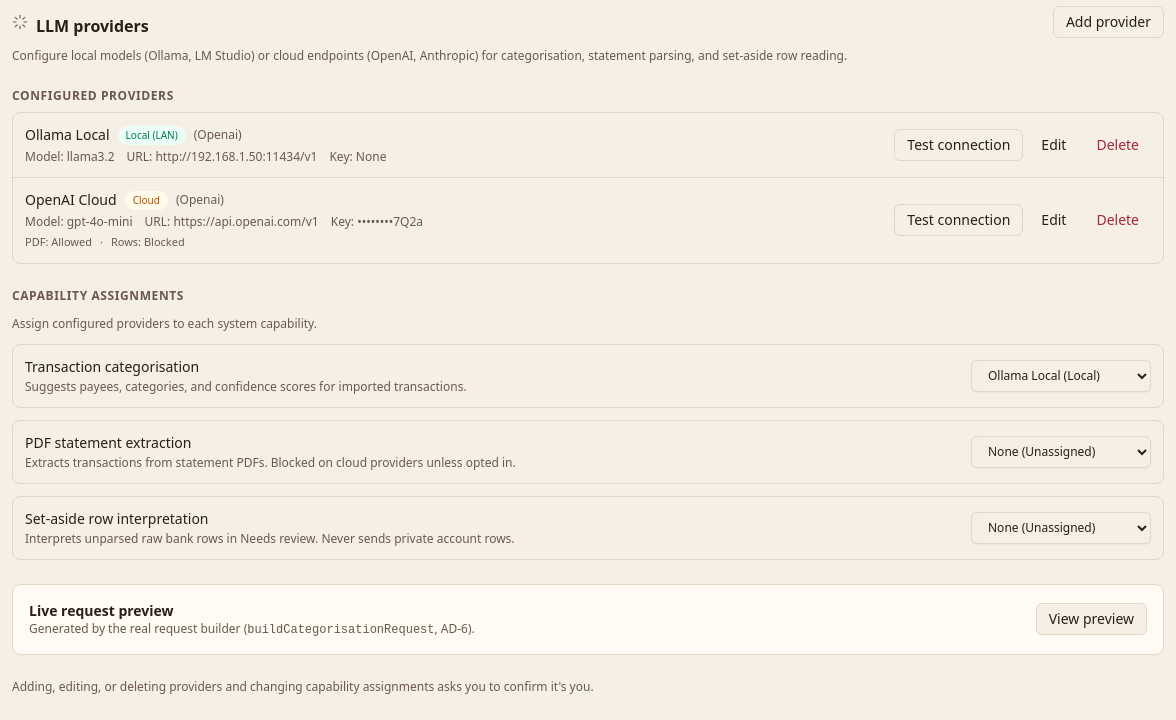
it: LlmProviderSettings › toggles and displays live request preview
The image size is (1176, 720).
Expected: the text "Live request preview" is shown, x1=29 y1=600 x2=174 y2=620
Expected: the text "You are a financial transaction categorisation assistant" is not shown
// Toggle open
Click the button "View preview".
click(1091, 619)  # box x1=1036 y1=603 x2=1147 y2=635
(page scrolled)
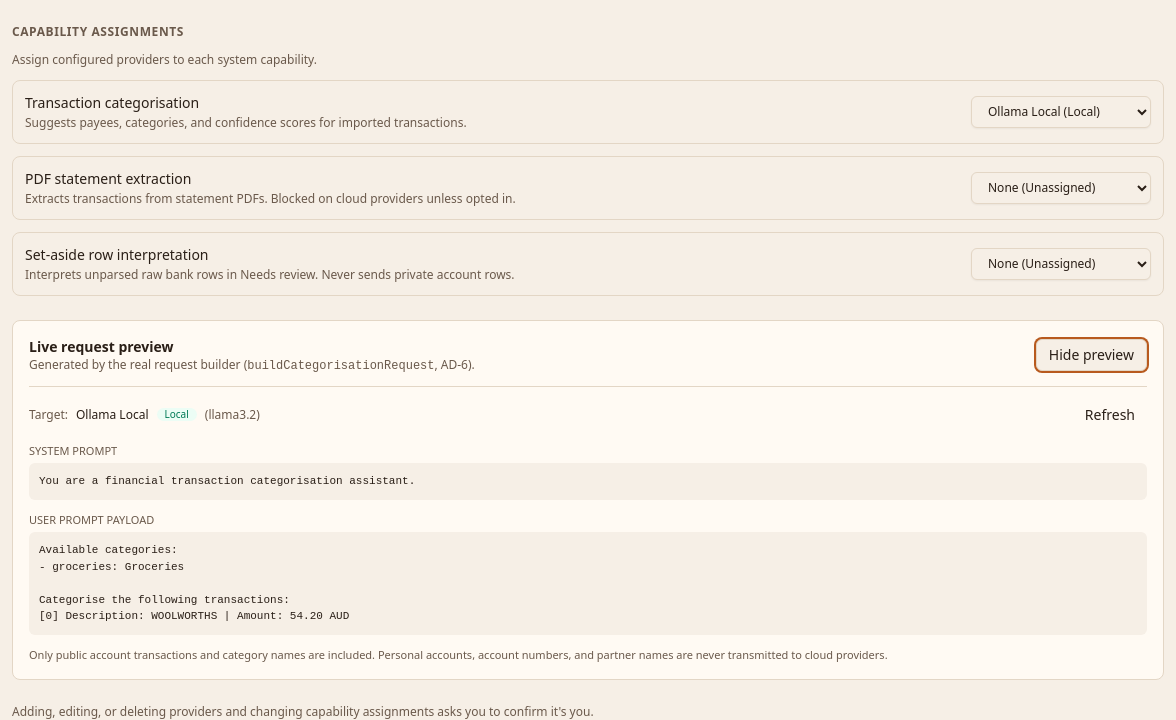
Expected: the text "You are a financial transaction categorisation assistant." is shown, x1=29 y1=463 x2=1147 y2=500
Expected: the text "WOOLWORTHS" is shown, x1=39 y1=544 x2=349 y2=622
